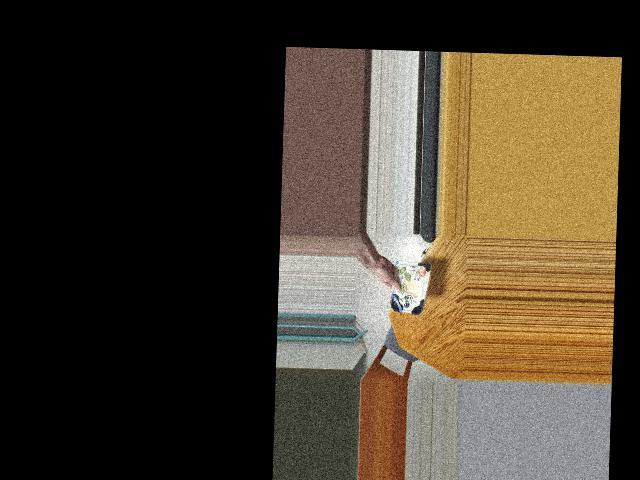cheese: (383, 260, 432, 313)
